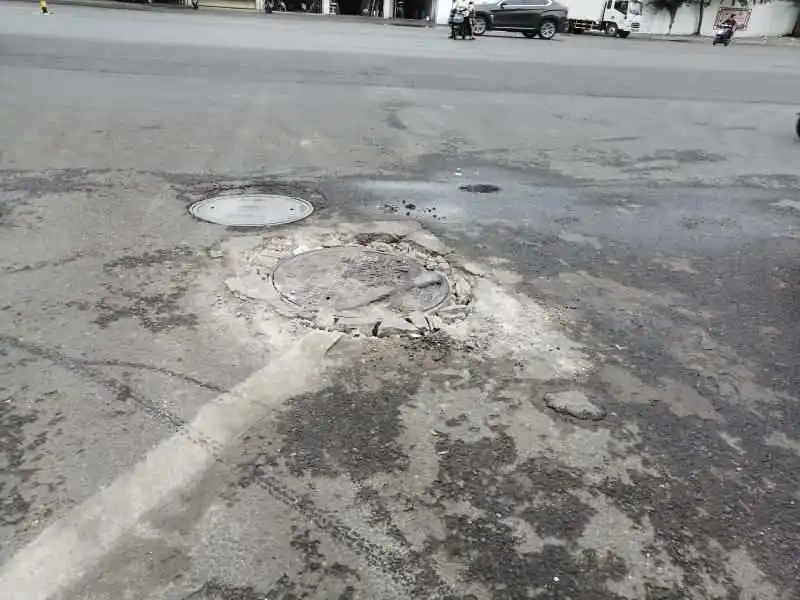circle: (231, 222, 539, 390)
